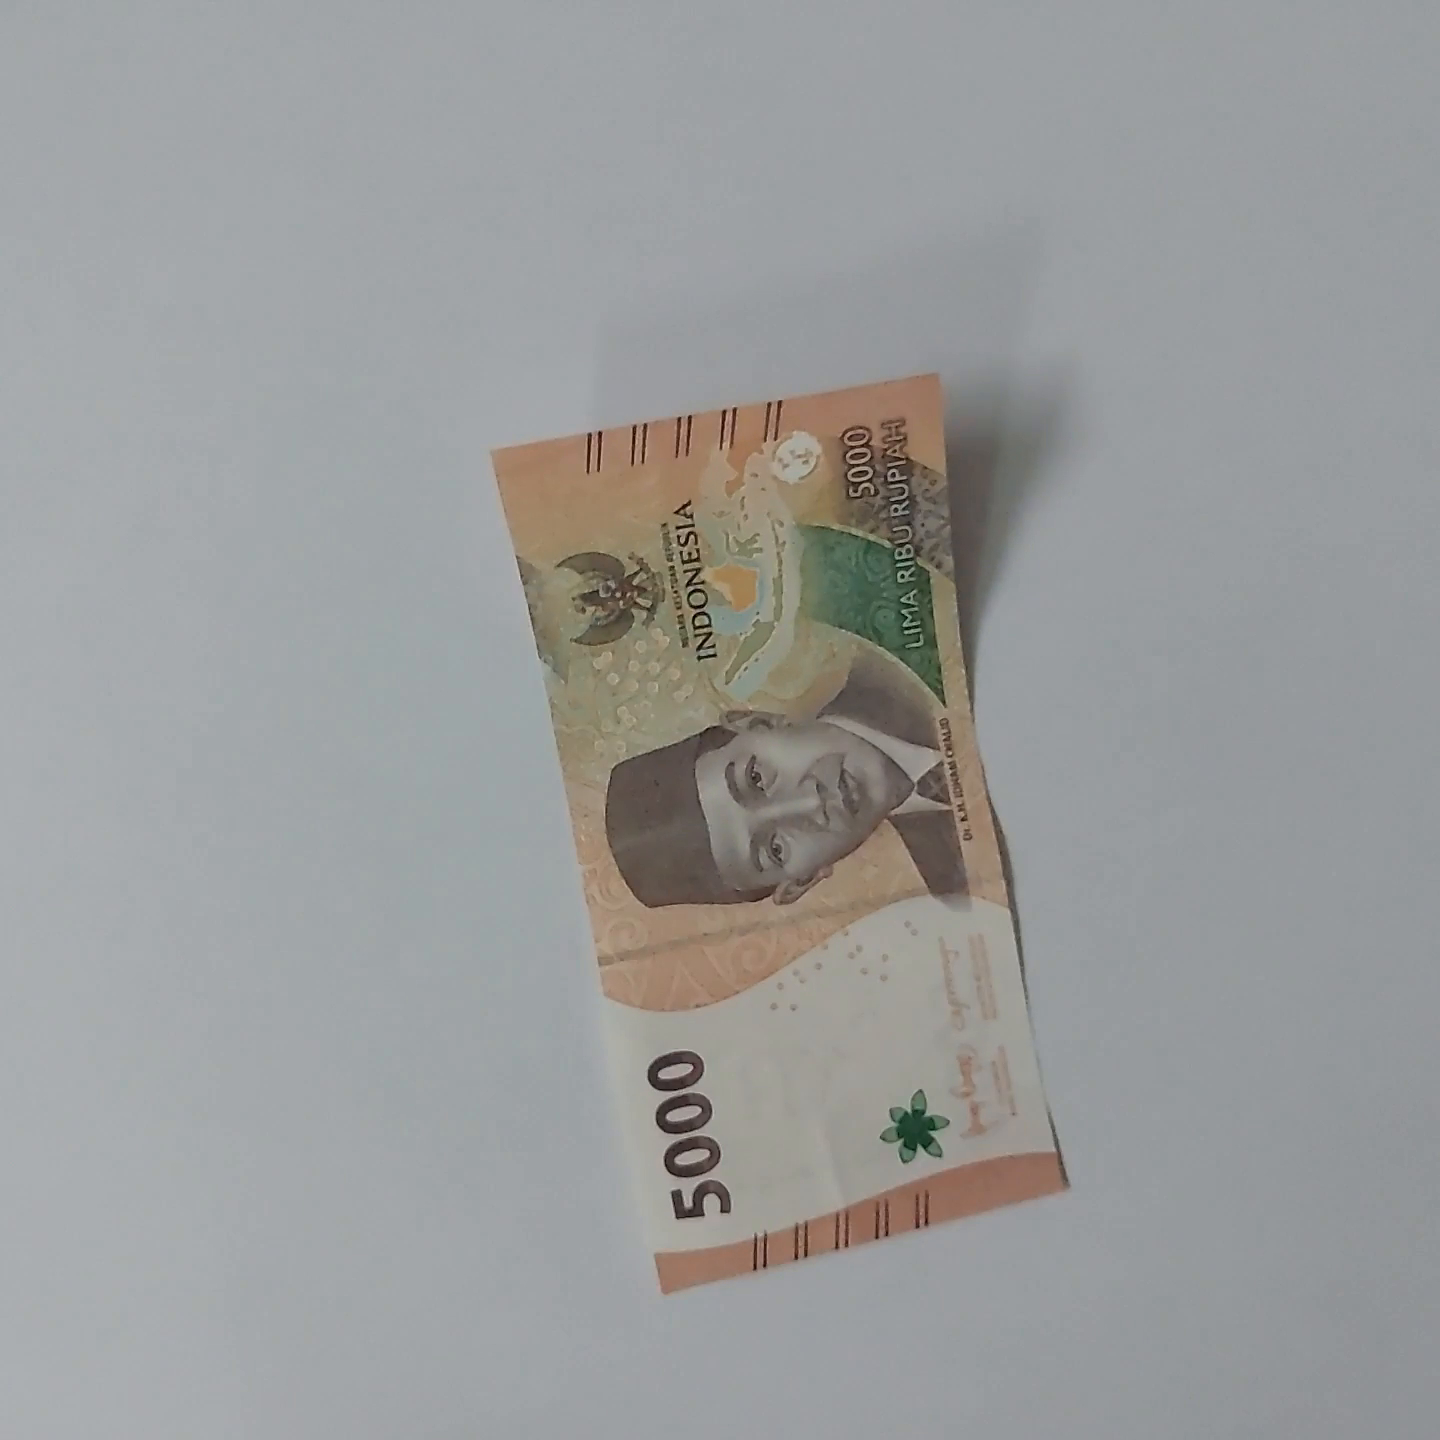5k: (447, 381, 1085, 1302)
